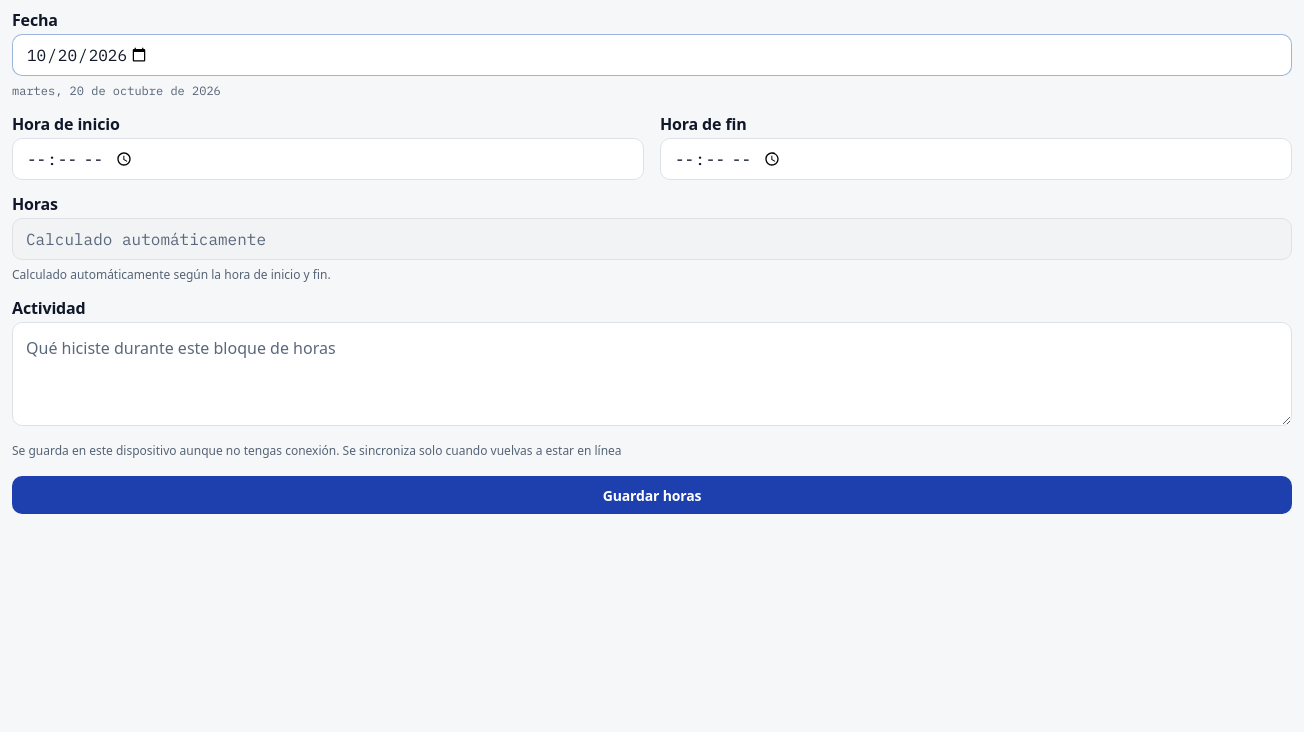
Test: HourLogForm calendar dates › fails closed when the placement is unavailable locally
Type "2026-10-13" into the date field labelled "Fecha". click: (652, 55)
box: 12,34 -> 1292,76
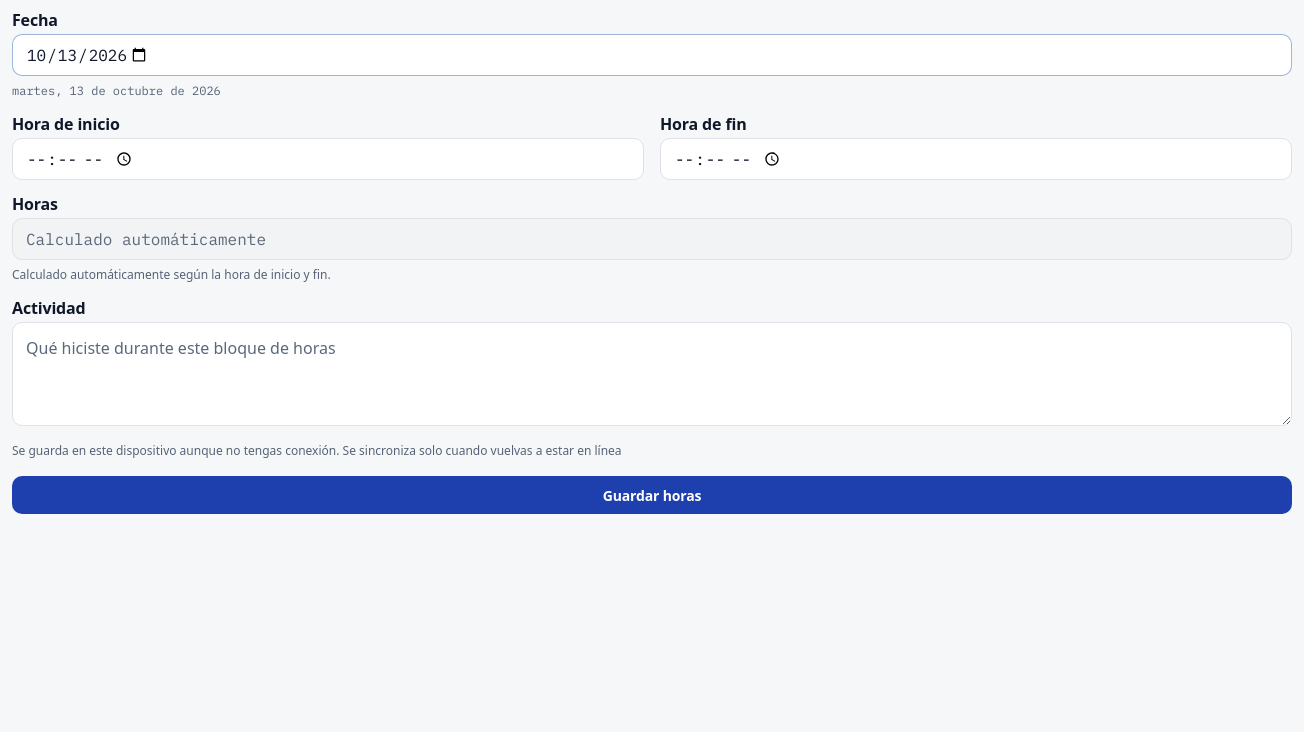
Type "08:00" into the time field labelled "Hora de inicio". click: (328, 159)
box: 12,138 -> 644,180
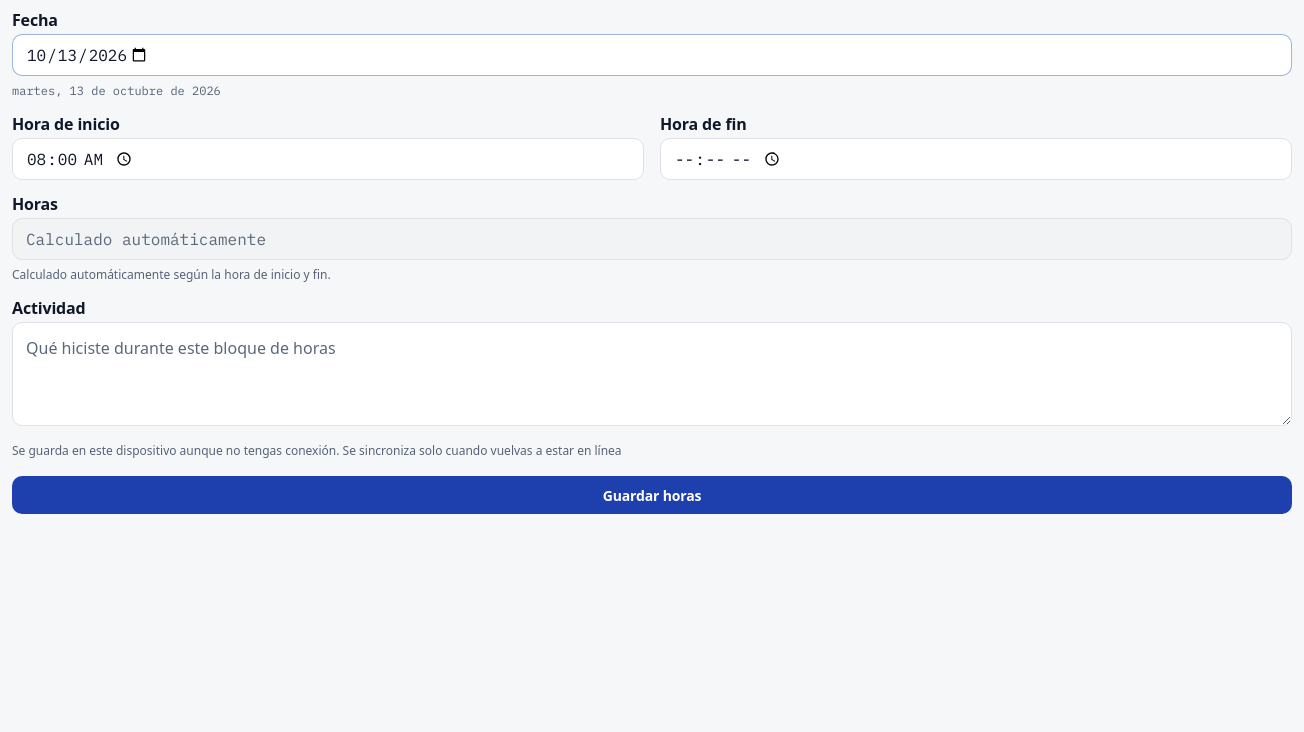
Type "12:00" into the time field labelled "Hora de fin". click: (976, 159)
box: 660,138 -> 1292,180
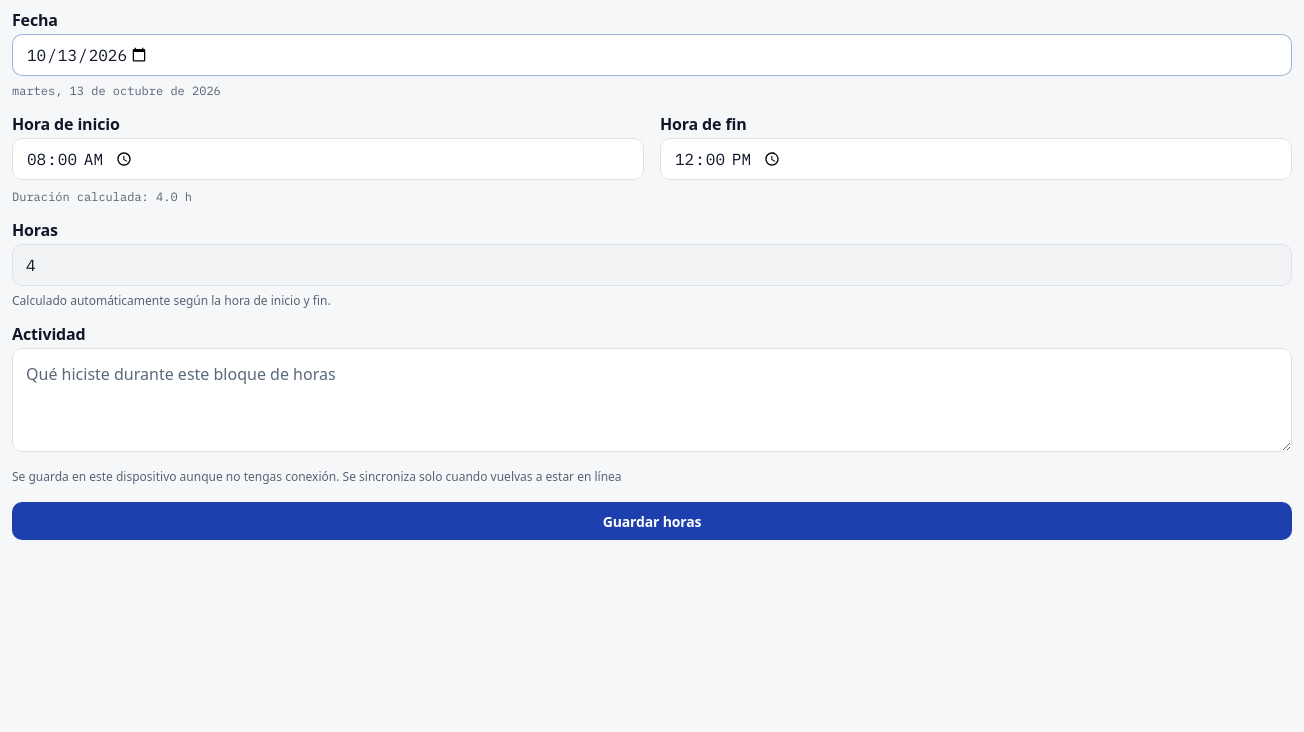
Type "Apoyo en laboratorio" into the text box labelled "Actividad". click: (652, 400)
box: 12,348 -> 1292,452
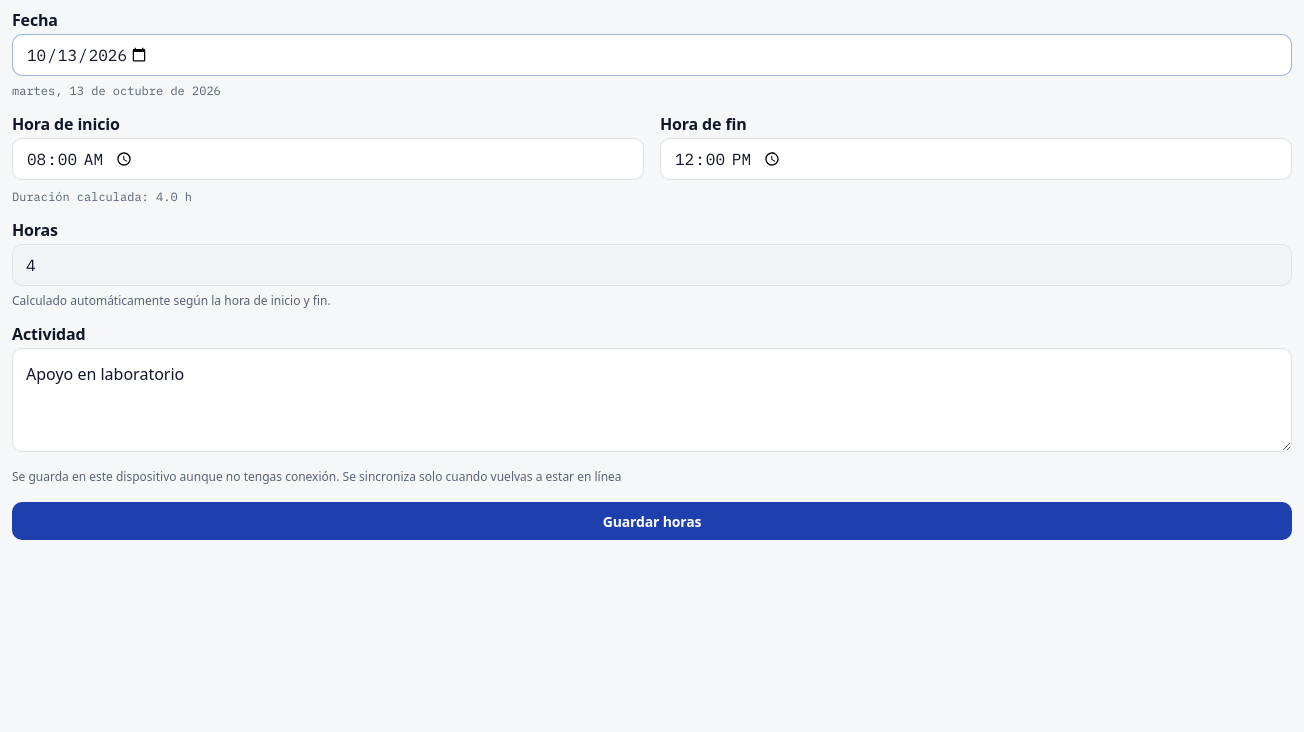
Click the button "Guardar horas". click: (652, 521)
box: 12,502 -> 1292,540
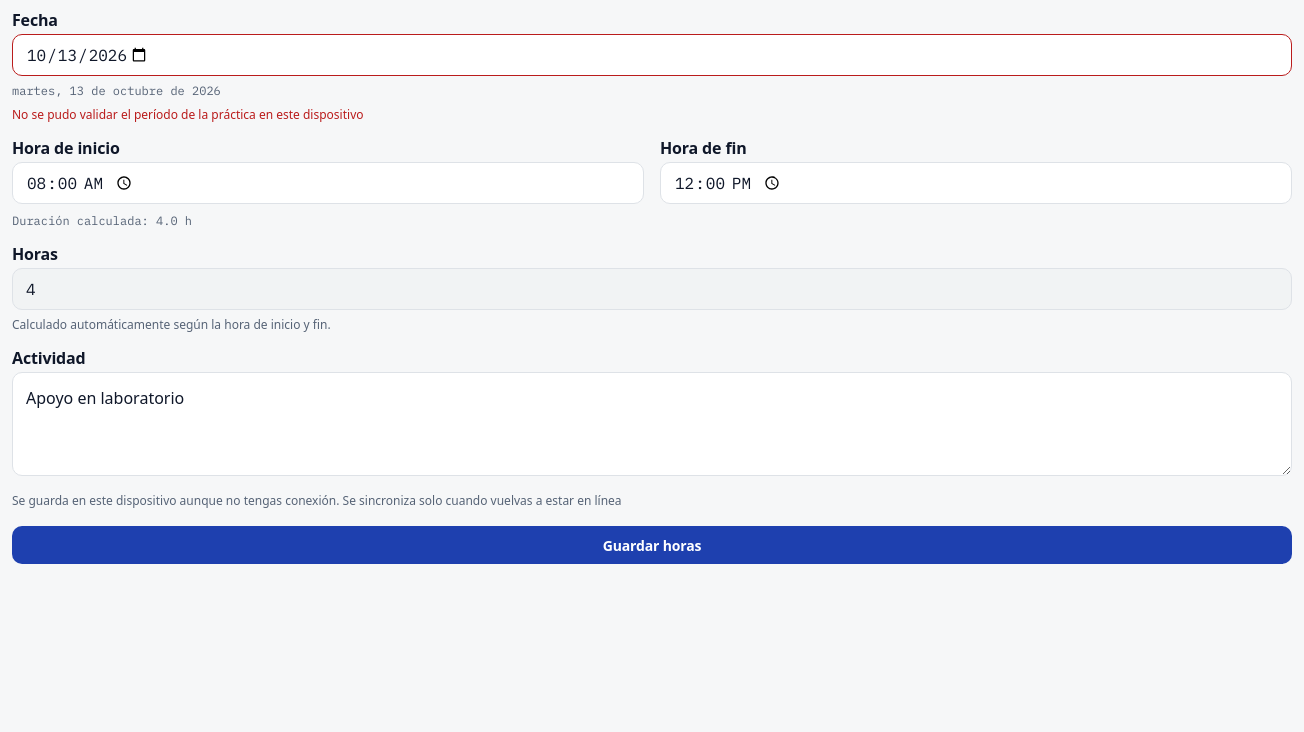
Check: the message reads "No se pudo validar el período de la práctica en este dispositivo", box 12,106 -> 364,123
